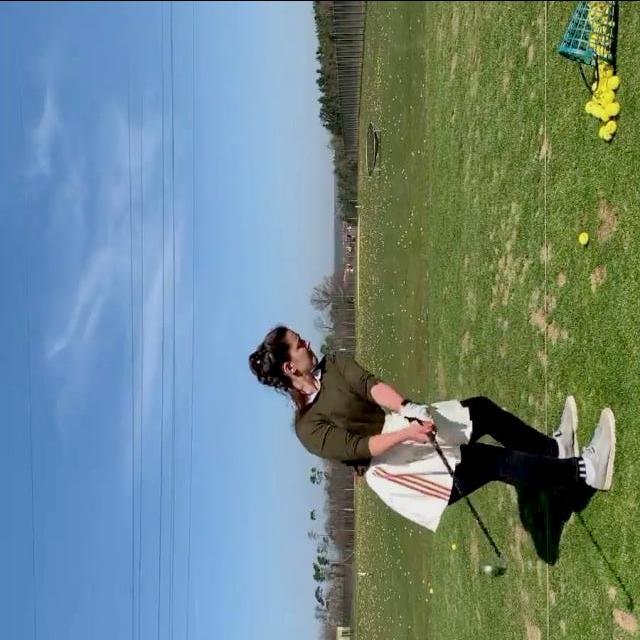golf ball: (597, 125, 606, 139), (612, 77, 621, 90), (584, 99, 593, 112), (610, 103, 618, 115), (580, 231, 588, 241), (589, 37, 595, 49), (609, 121, 616, 131), (591, 80, 598, 90), (602, 106, 608, 117), (608, 90, 615, 99), (606, 125, 611, 137), (597, 57, 603, 66), (604, 15, 610, 24), (608, 65, 613, 75), (592, 2, 599, 9), (602, 49, 609, 56), (595, 105, 601, 113), (601, 69, 607, 77), (587, 12, 593, 20), (595, 96, 600, 105), (595, 22, 600, 31), (601, 100, 607, 107), (607, 78, 613, 85), (604, 5, 610, 12), (593, 91, 598, 99), (596, 43, 601, 51), (602, 82, 607, 89), (596, 86, 601, 93), (602, 25, 606, 32), (593, 32, 597, 39), (595, 69, 598, 76), (602, 95, 606, 100)
golf club-handle: (424, 425, 510, 576)
golf club-head: (482, 560, 504, 577)
